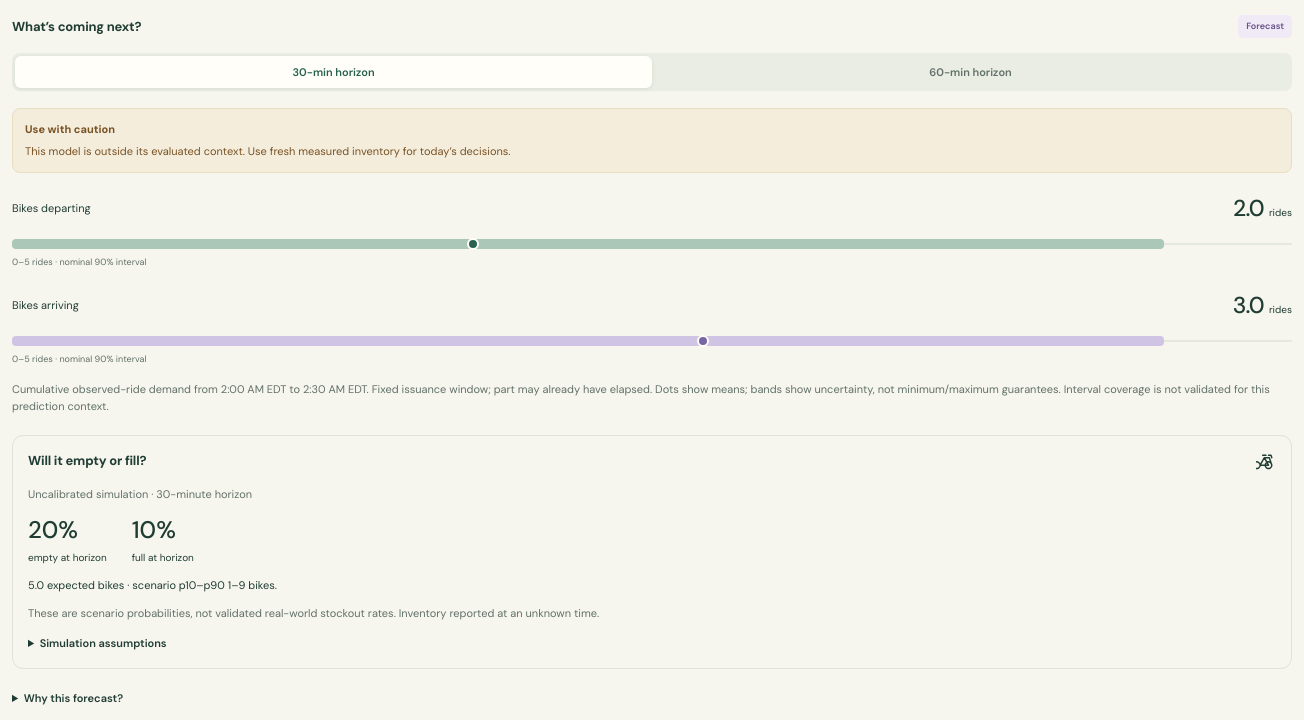
Test: labels simulated risk as uncalibrated and renders only server-provided scenario values
Check: the text "20%" is shown, box 28,514 -> 78,545
Check: the text "not validated real-world stockout rates" is shown, box 28,606 -> 494,620
What coordinates should you click on to do the following:
click the button "60-min horizon"
I would click on:
 (970, 72)
Its box is 652,56 -> 1289,88.
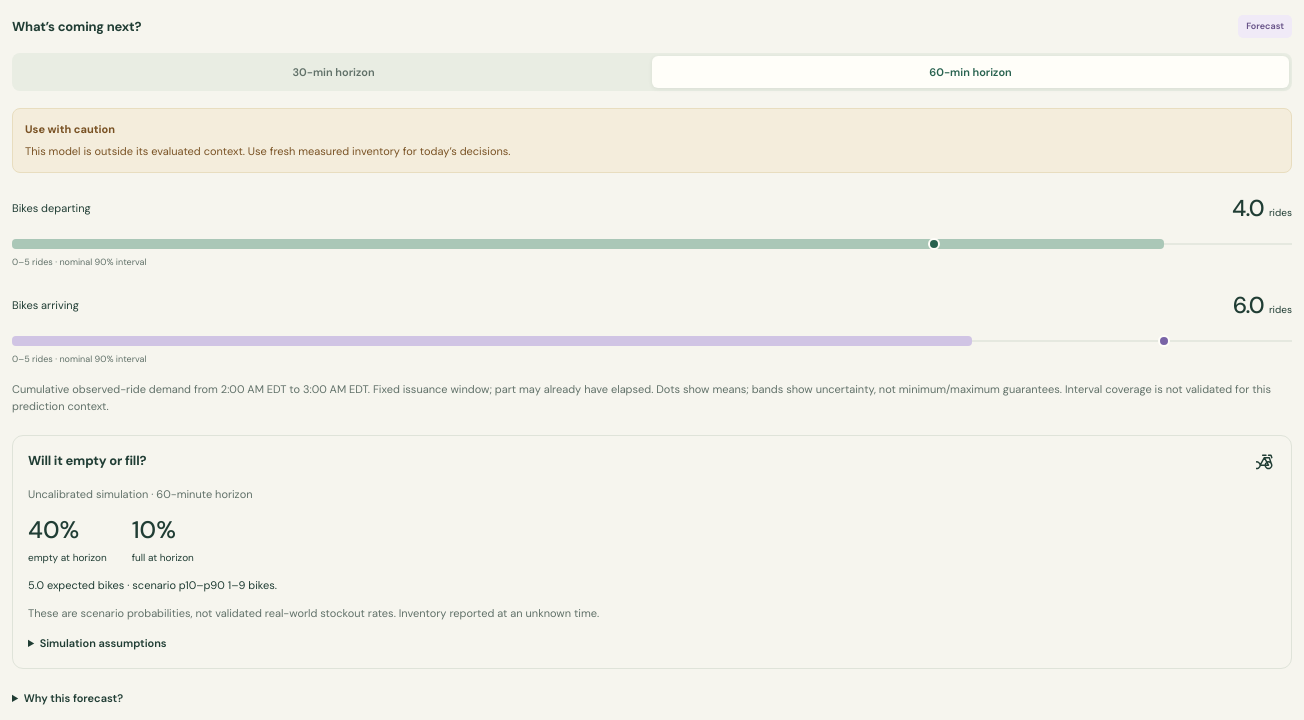
Check: the text "40%" is shown, box 28,514 -> 79,545
